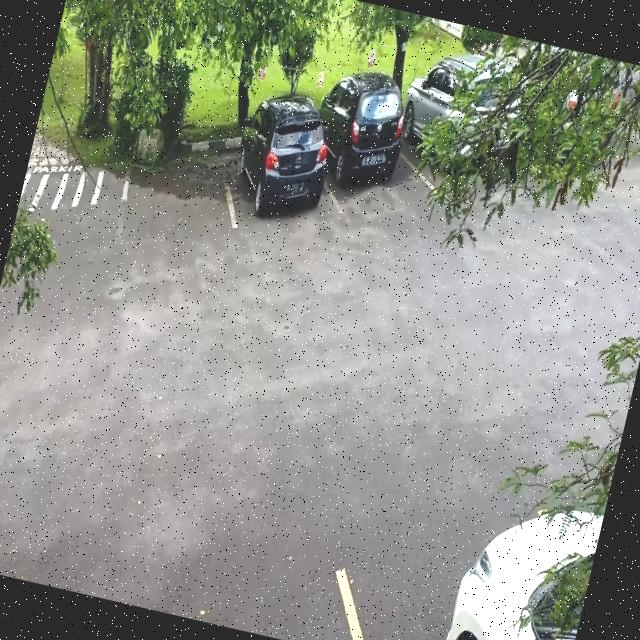empty: (117, 120, 249, 242)
occupied: (222, 105, 340, 242), (321, 69, 423, 226)
